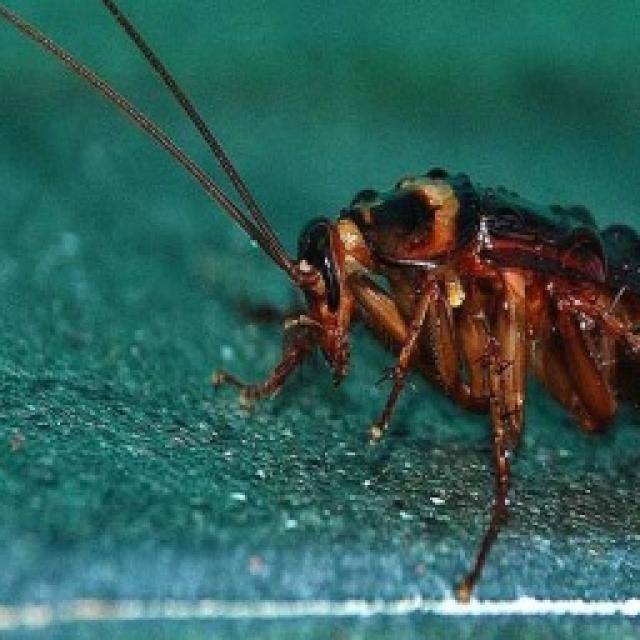cockroach: (122, 55, 640, 570)
